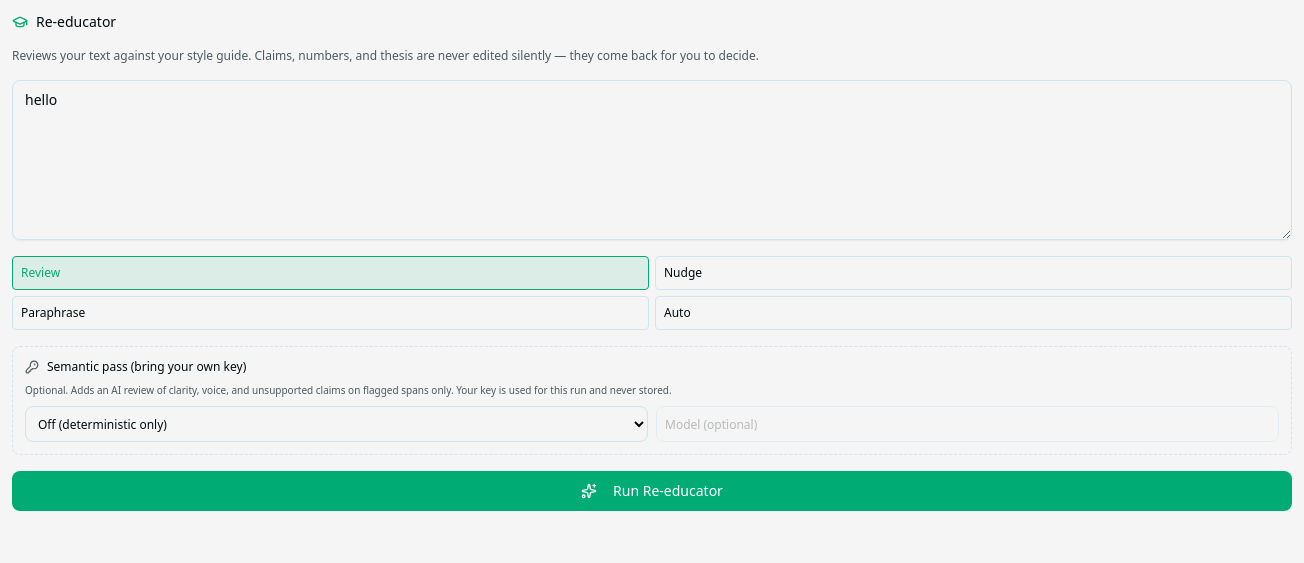
Test case: ReEducatorPanel › surfaces a 401 with a sign-in prompt
This screenshot has width=1304, height=563.
Click the button "Run Re-educator" at (652, 491), box x1=12 y1=471 x2=1292 y2=511
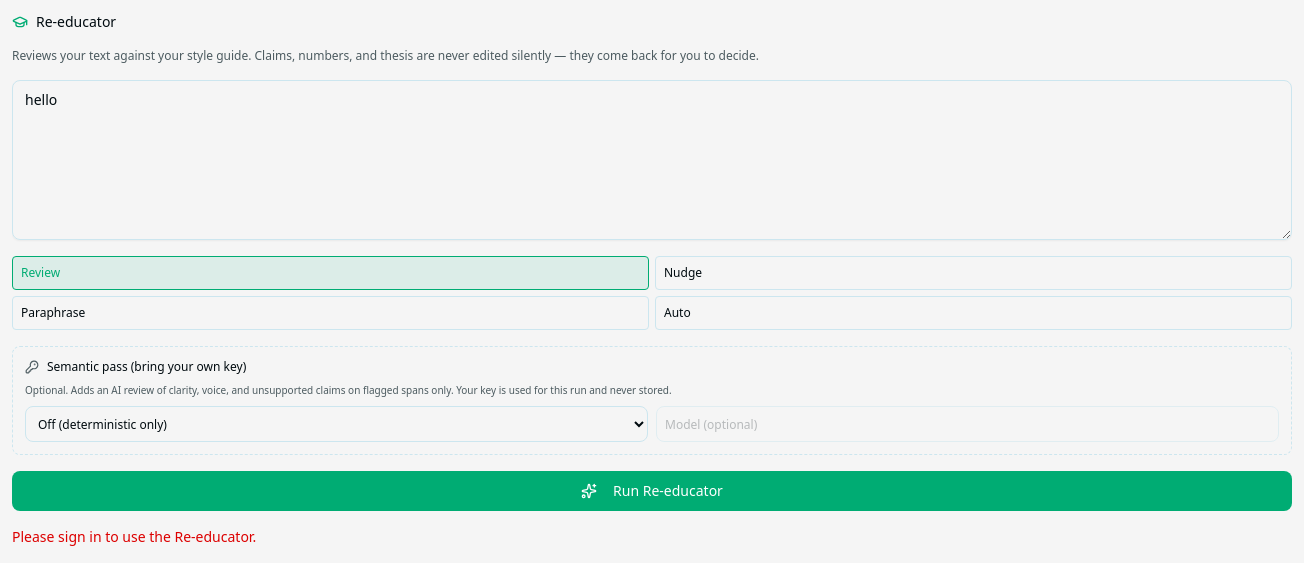
Expected: the text "Please sign in to use the Re-educator." is shown, x1=12 y1=527 x2=256 y2=546
